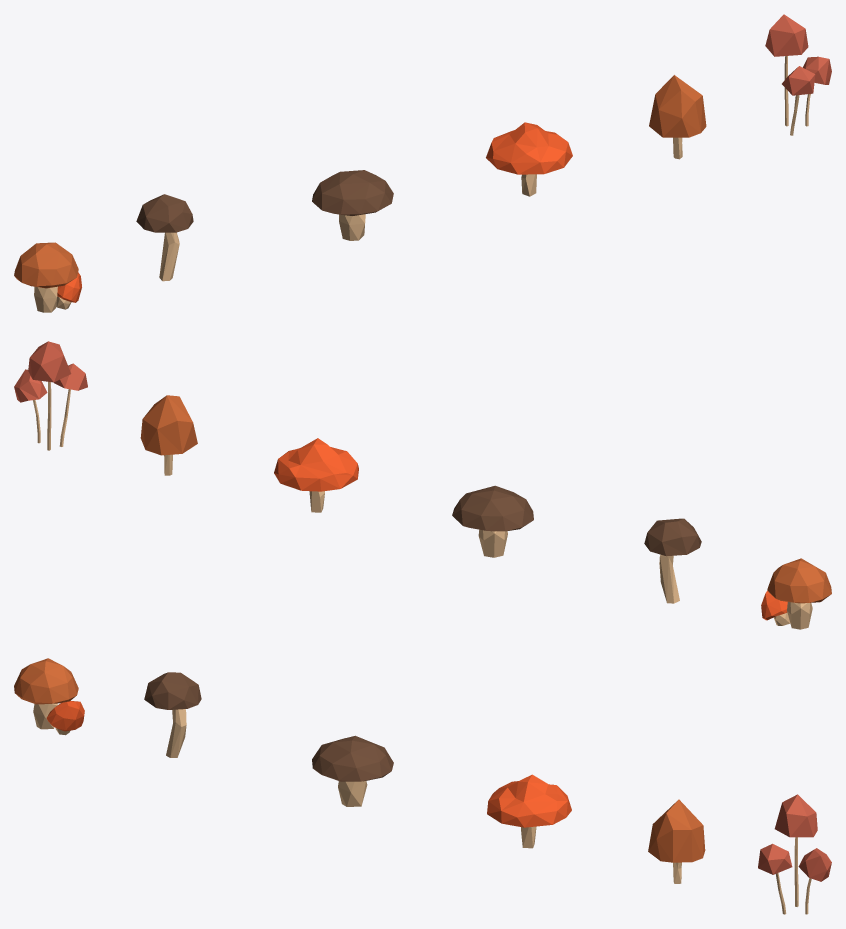
The model's file is mushrooms.fbx.
The picture shows the model from 3 angles, top to bottom: view 1: azimuth 30°, elevation 25°; view 2: azimuth 150°, elevation 25°; view 3: azimuth 330°, elevation 25°; orthographic projection.
Visible parts, largest first — view 1: Icosphere.002, Icosphere, Icosphere.003, Icosphere.005, Icosphere.004, Icosphere.001, Cylinder.007, stt; view 2: Icosphere.002, Icosphere, Icosphere.003, Icosphere.005, Icosphere.004, Icosphere.001, Cylinder.007, stt, Cube.001, st.001; view 3: Icosphere.002, Icosphere.005, Icosphere, Icosphere.003, Icosphere.004, Icosphere.001, Icosphere.006, Cylinder.007, stt, Cube.001.
Boxes of the visible parts, bbox=[...] form: Icosphere.002: bbox=[486, 122, 572, 174]; Icosphere: bbox=[312, 170, 393, 215]; Icosphere.003: bbox=[649, 75, 706, 137]; Icosphere.005: bbox=[765, 14, 831, 95]; Icosphere.004: bbox=[14, 242, 78, 288]; Icosphere.001: bbox=[136, 194, 193, 232]; Cylinder.007: bbox=[159, 232, 179, 281]; stt: bbox=[339, 214, 365, 240]; Icosphere.002: bbox=[274, 438, 358, 491]; Icosphere: bbox=[452, 485, 533, 531]; Icosphere.003: bbox=[140, 395, 197, 455]; Icosphere.005: bbox=[14, 341, 87, 402]; Icosphere.004: bbox=[767, 558, 831, 603]; Icosphere.001: bbox=[644, 518, 701, 556]; Cylinder.007: bbox=[659, 554, 679, 603]; stt: bbox=[478, 529, 507, 557]; Cube.001: bbox=[33, 381, 70, 450]; st.001: bbox=[787, 602, 812, 629]; Icosphere.002: bbox=[487, 774, 571, 827]; Icosphere.005: bbox=[758, 794, 831, 881]; Icosphere: bbox=[312, 735, 393, 781]; Icosphere.003: bbox=[648, 799, 705, 862]; Icosphere.004: bbox=[14, 658, 78, 704]; Icosphere.001: bbox=[144, 672, 201, 709]; Icosphere.006: bbox=[46, 701, 84, 731]; Cylinder.007: bbox=[166, 709, 186, 757]; stt: bbox=[338, 781, 367, 806]; Cube.001: bbox=[776, 837, 811, 914].
Bounding box in the file's own units: 406 × 53.9 × 37.09.
